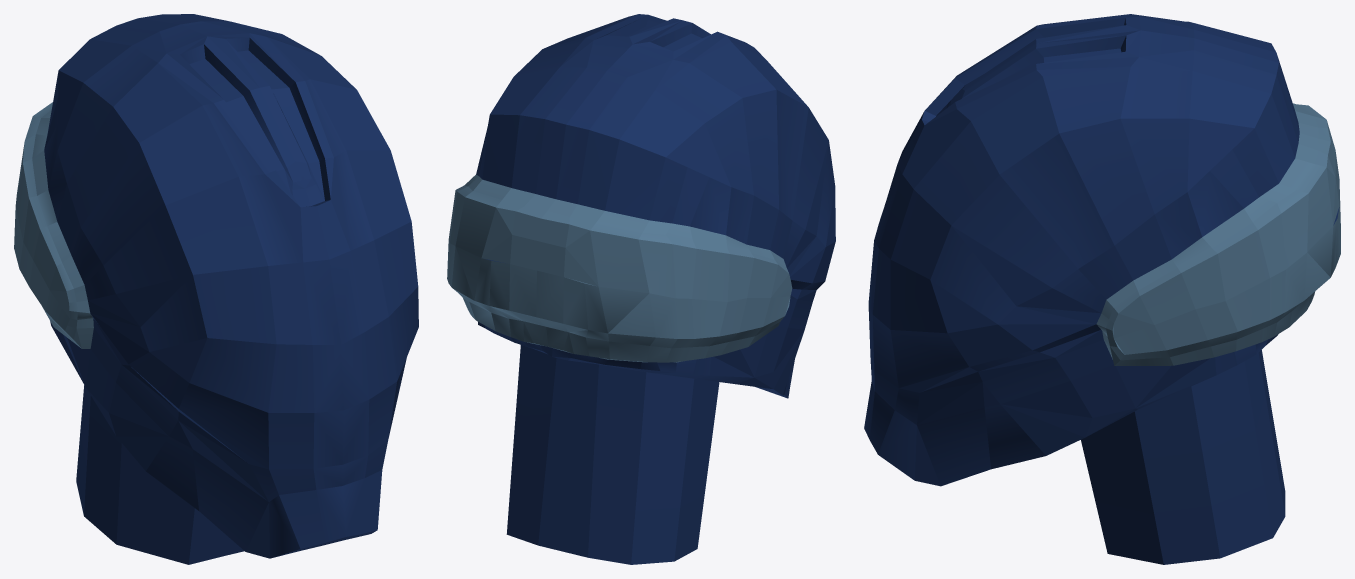
The model's file is head.fbx.
3 views of the same model, side by side, from view 1: azimuth 30°, elevation 25°; view 2: azimuth 150°, elevation 25°; view 3: azimuth 270°, elevation 25° (orthographic). The views are drawn at different scales.
Visible parts, largest first — view 1: head; view 2: head; view 3: head.
Part boxes in pixels (x1=…): head: x1=14, y1=14, x2=418, y2=564; head: x1=447, y1=14, x2=835, y2=564; head: x1=864, y1=14, x2=1340, y2=564.
Size of the model in its own units: 0.1698 by 0.2709 by 0.2312.
